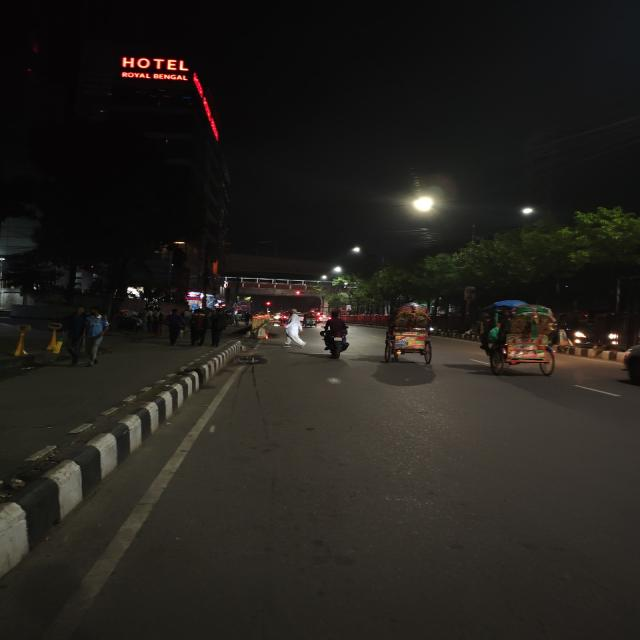motorcycle: (318, 310, 356, 359)
pedestrian: (56, 305, 112, 367), (203, 304, 231, 348), (186, 306, 211, 348), (283, 309, 305, 356), (163, 307, 186, 346)
rickshaw: (476, 300, 564, 378), (380, 306, 442, 364)
